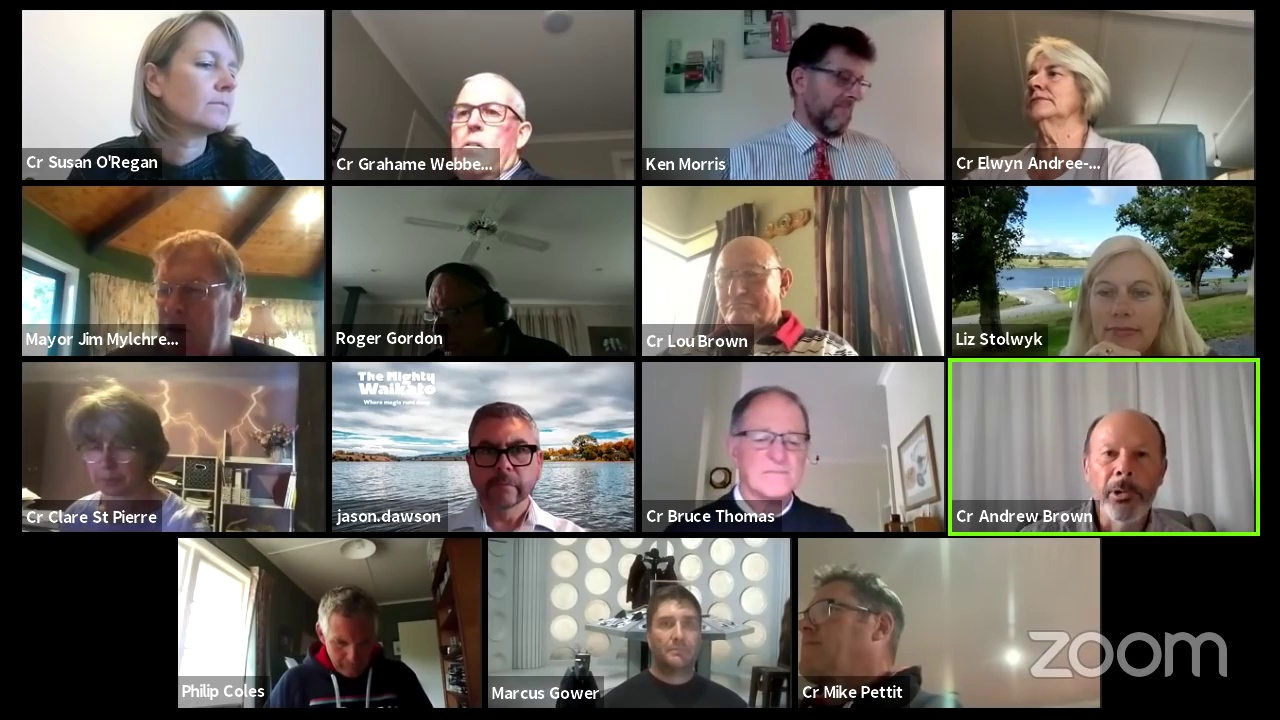Distracted: (130, 14, 244, 141), (62, 389, 167, 502), (806, 567, 904, 679), (789, 20, 867, 147), (731, 398, 815, 498), (410, 265, 502, 353), (703, 242, 793, 330), (1017, 38, 1088, 132), (312, 587, 384, 676)
Not Distracted: (144, 237, 248, 346), (453, 406, 554, 512), (1077, 238, 1167, 341), (1085, 414, 1171, 516), (448, 67, 524, 179), (635, 593, 702, 669)
